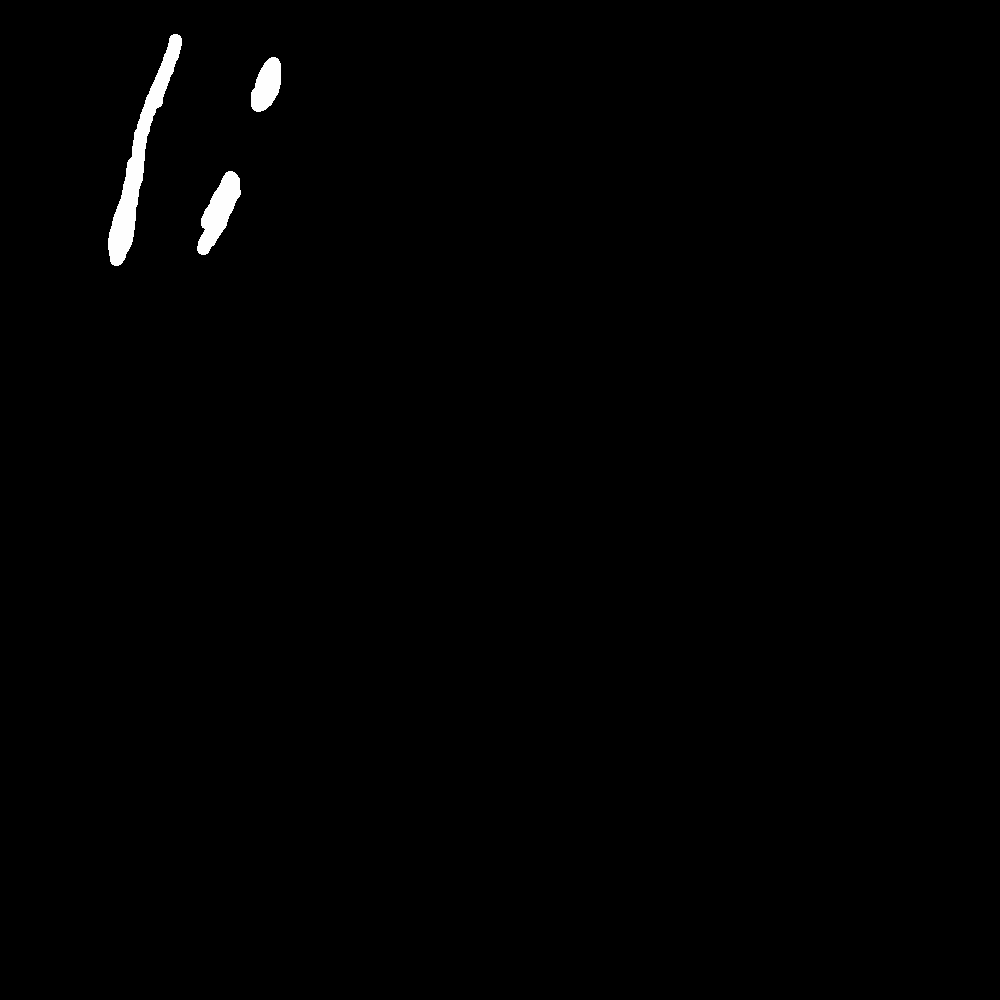illegal: (155, 163, 248, 323), (105, 100, 155, 274), (239, 79, 276, 126)
